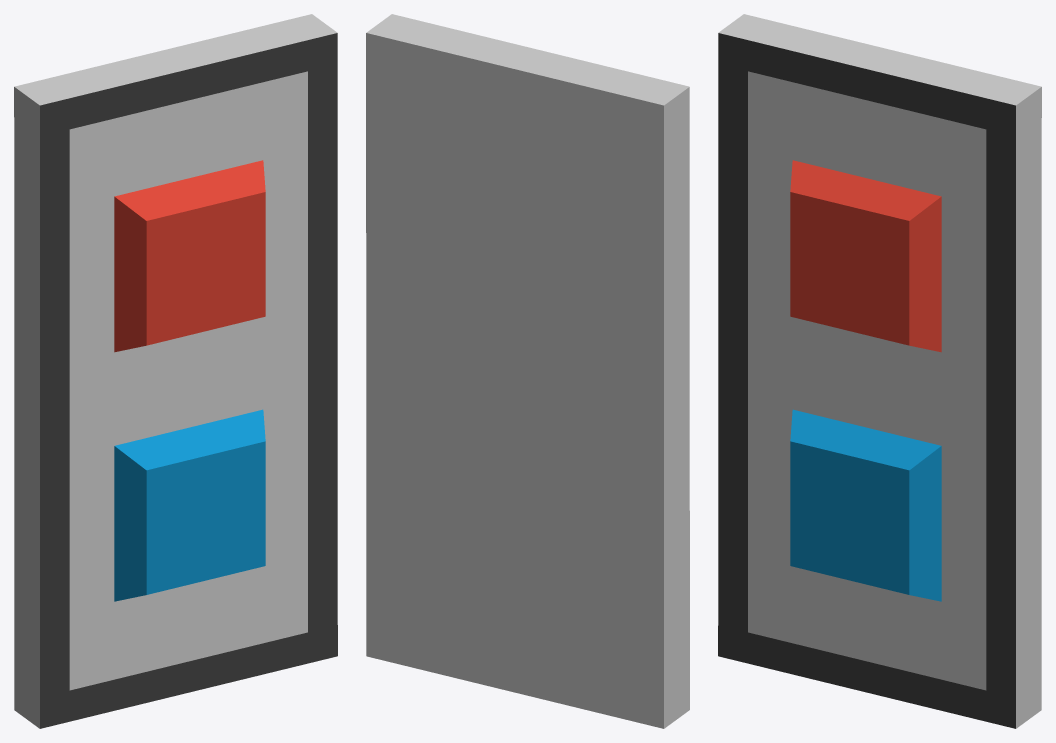
File: scifi_panel_small.fbx
3 renders of one model, left to right at view 1: azimuth 30°, elevation 25°; view 2: azimuth 150°, elevation 25°; view 3: azimuth 330°, elevation 25°, orthographic.
Visible parts, largest first — view 1: Button3.003; view 2: Button3.003; view 3: Button3.003.
Boxes of the visible parts, x1,y1,x2,y2 form: Button3.003: [14, 14, 337, 728]; Button3.003: [366, 14, 689, 728]; Button3.003: [718, 14, 1041, 728].
Bounding box in the file's own units: 0.2 × 0.4 × 0.05.
